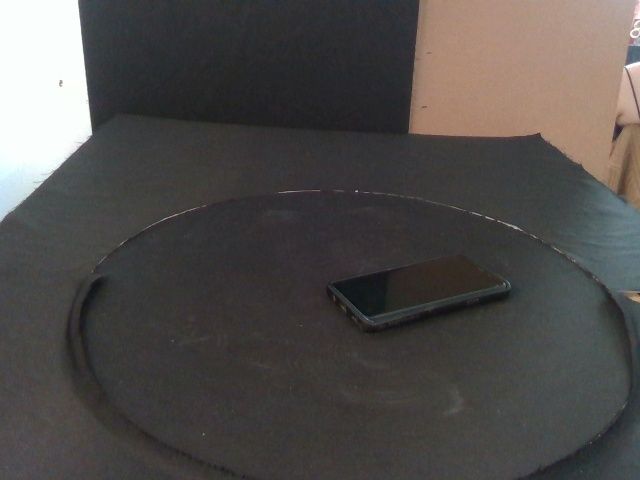phone: (326, 253, 513, 335)
